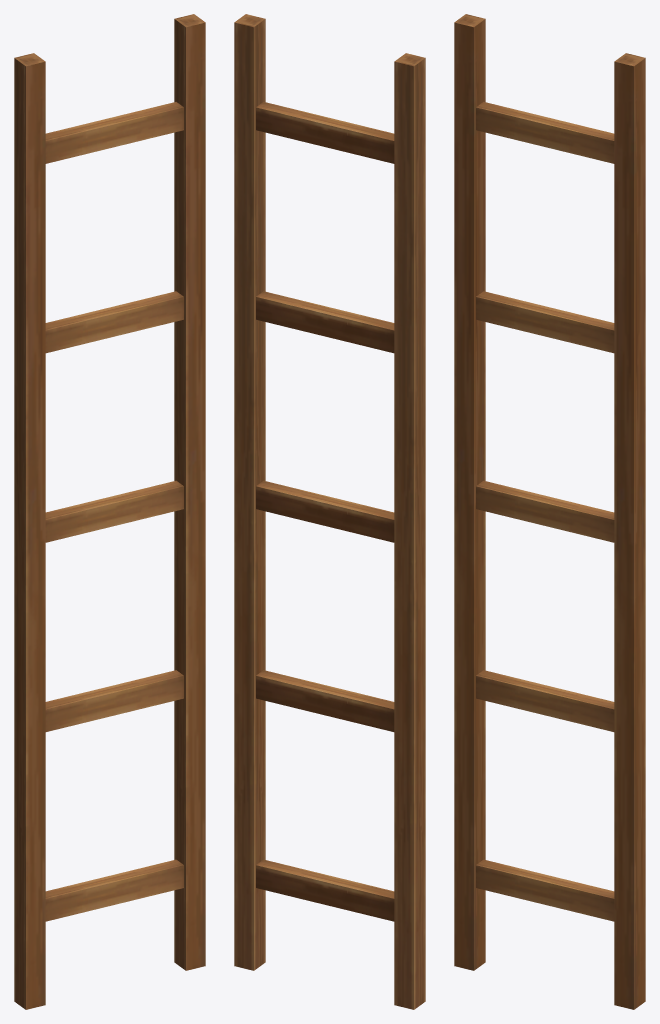
File: Ladder_01.FBX
3 views of the same model, side by side, from view 1: azimuth 30°, elevation 25°; view 2: azimuth 150°, elevation 25°; view 3: azimuth 330°, elevation 25° (orthographic).
Visible parts, largest first — view 1: Ladder_01; view 2: Ladder_01; view 3: Ladder_01.
Boxes of the visible parts, <box> form: Ladder_01: <box>14,14,205,1009</box>; Ladder_01: <box>234,14,425,1009</box>; Ladder_01: <box>454,14,645,1009</box>.
Size of the model in its own units: 70.08 by 7.84 by 351.
